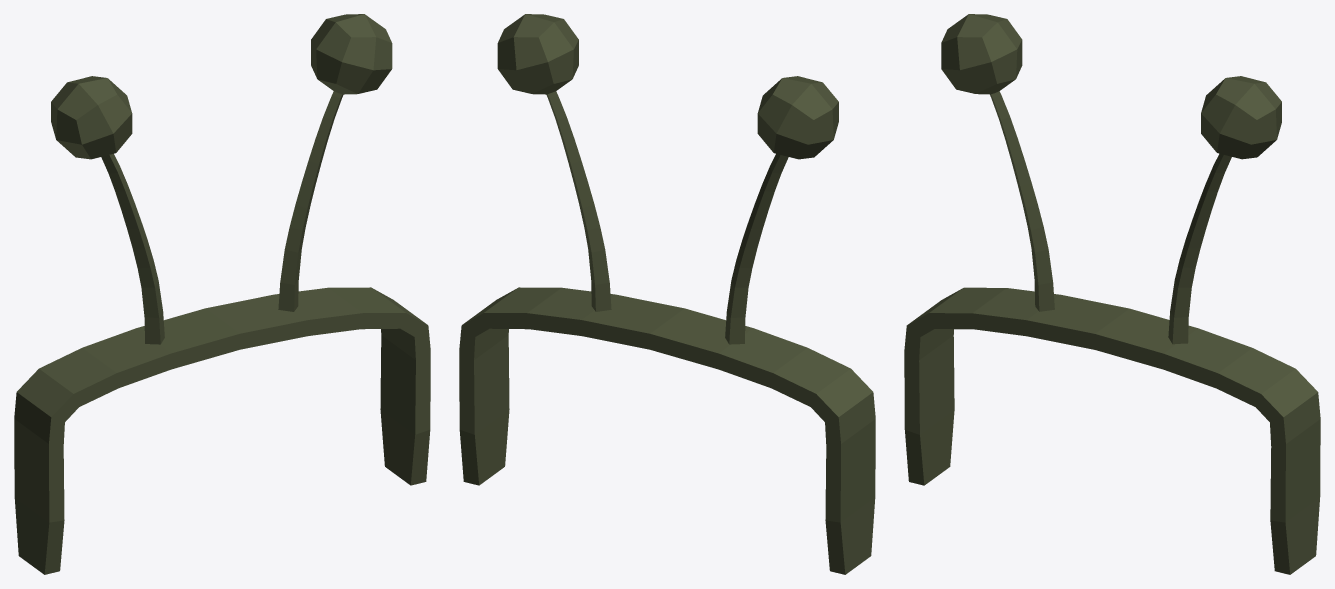
Rendered from Hat_DeelyBoppers.fbx.
3 views of the same model, side by side, from view 1: azimuth 30°, elevation 25°; view 2: azimuth 150°, elevation 25°; view 3: azimuth 330°, elevation 25° (orthographic).
Parts seen in each view (by area): view 1: Headband, Left, Right; view 2: Headband, Left, Right; view 3: Headband, Right, Left.
Part boxes in pixels (bbox=[...]): Headband: bbox=[14, 287, 430, 574]; Left: bbox=[278, 14, 392, 311]; Right: bbox=[51, 76, 164, 344]; Headband: bbox=[459, 287, 875, 574]; Left: bbox=[497, 14, 611, 311]; Right: bbox=[725, 76, 838, 344]; Headband: bbox=[904, 287, 1320, 574]; Right: bbox=[941, 14, 1054, 311]; Left: bbox=[1168, 76, 1281, 344].
Bounding box in the file's own units: 1.97 × 2.32 × 0.3904.
